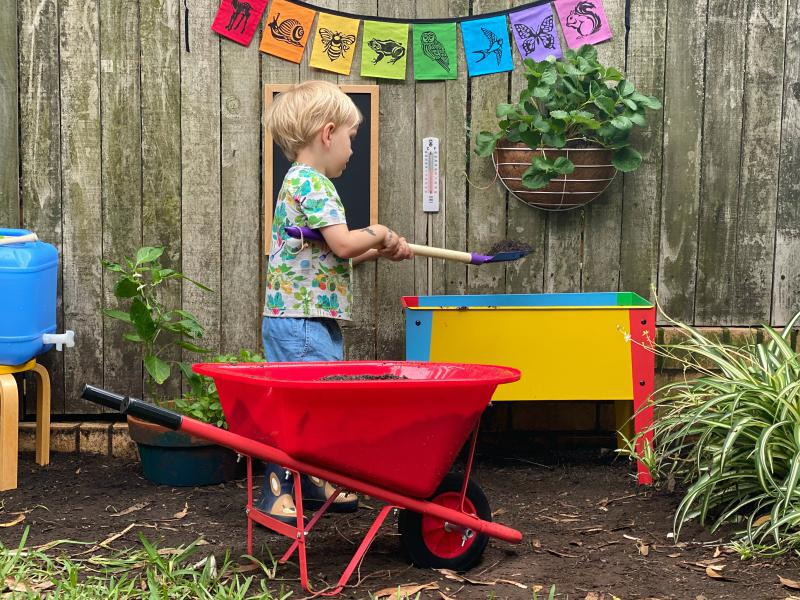child: (240, 84, 419, 533)
